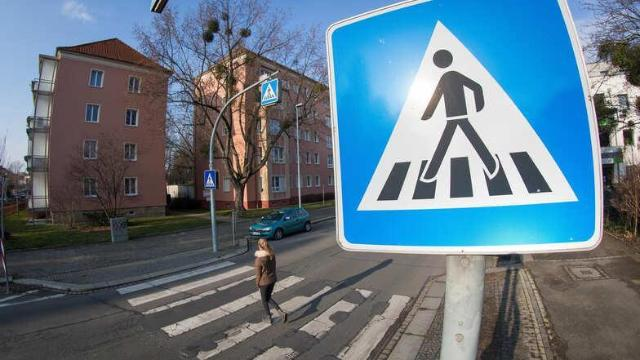crosswalk-sign: (325, 2, 605, 257), (260, 81, 285, 108), (203, 173, 219, 193)
